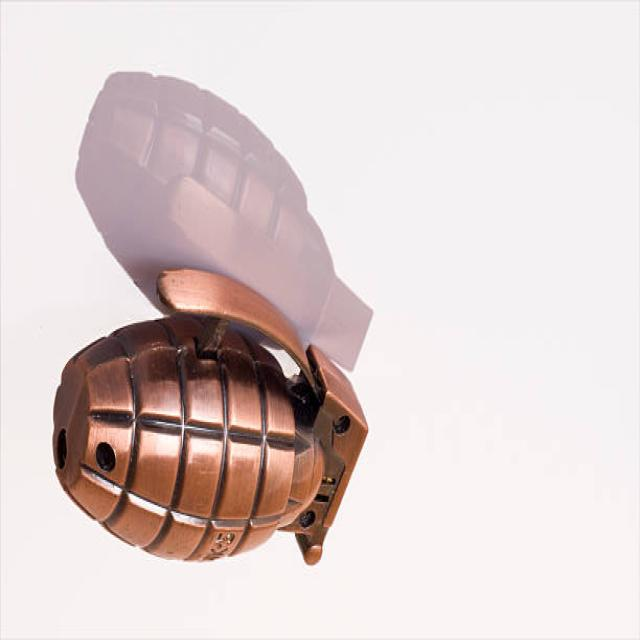grenade: (50, 269, 372, 577)
